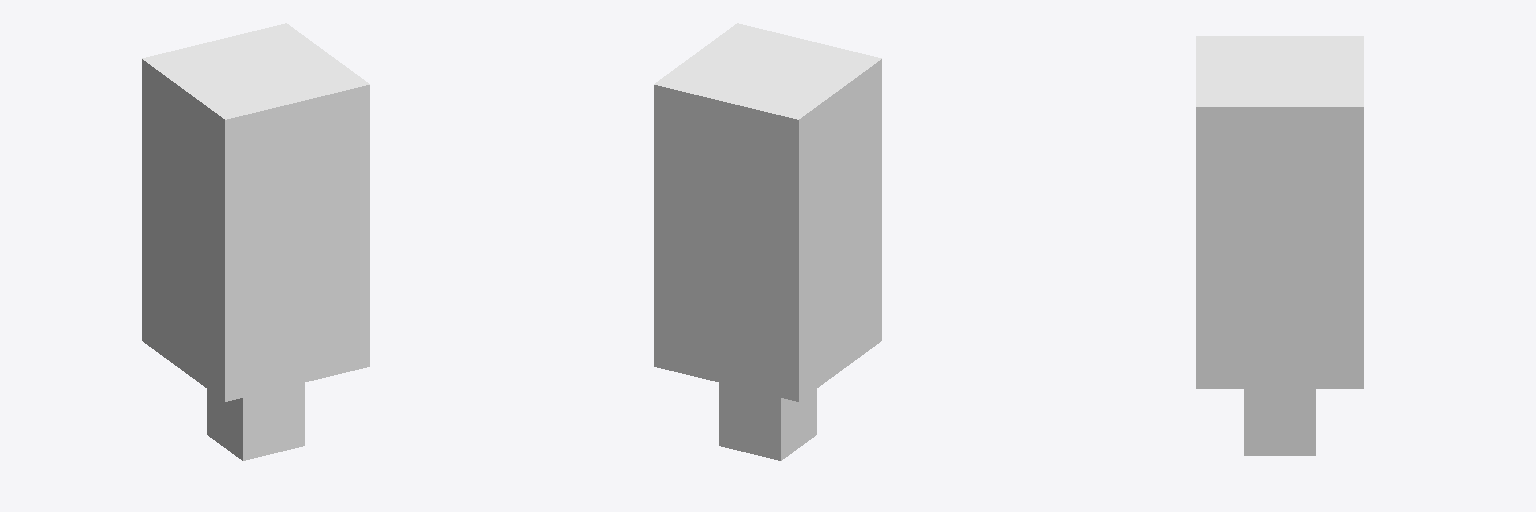
The model's file is tree_L.obj.
3 renders of one model, left to right at view 1: azimuth 30°, elevation 25°; view 2: azimuth 150°, elevation 25°; view 3: azimuth 270°, elevation 25°, orthographic.
Visible parts, largest first — view 1: object 1; view 2: object 1; view 3: object 1.
Part boxes in pixels (left/top/right/bottom): object 1: left=142, top=23, right=369, bottom=460; object 1: left=654, top=23, right=881, bottom=460; object 1: left=1196, top=36, right=1363, bottom=455.
Bounding box in the file's own units: 0.7 × 1.7 × 0.7.